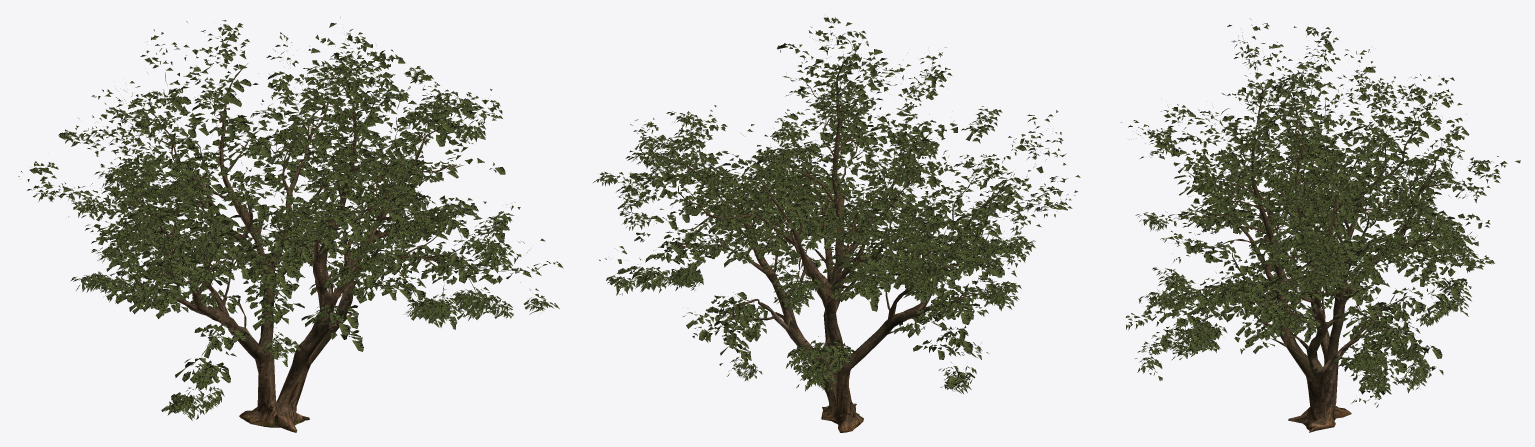
The model's file is jacaranda_tree-medium.gltf.
3 renders of one model, left to right at view 1: azimuth 30°, elevation 25°; view 2: azimuth 150°, elevation 25°; view 3: azimuth 270°, elevation 25°, orthographic. The views are drawn at different scales.
Visible parts, largest first — view 1: jacaranda_tree_LOD0; view 2: jacaranda_tree_LOD0; view 3: jacaranda_tree_LOD0.
Part boxes in pixels (<box>): jacaranda_tree_LOD0: <box>18,20,563,432</box>; jacaranda_tree_LOD0: <box>593,17,1080,432</box>; jacaranda_tree_LOD0: <box>1121,18,1520,432</box>.
Bounding box in the file's own units: 24.42 × 19.44 × 19.15.
Materials: 3 (3 with a texture image).
